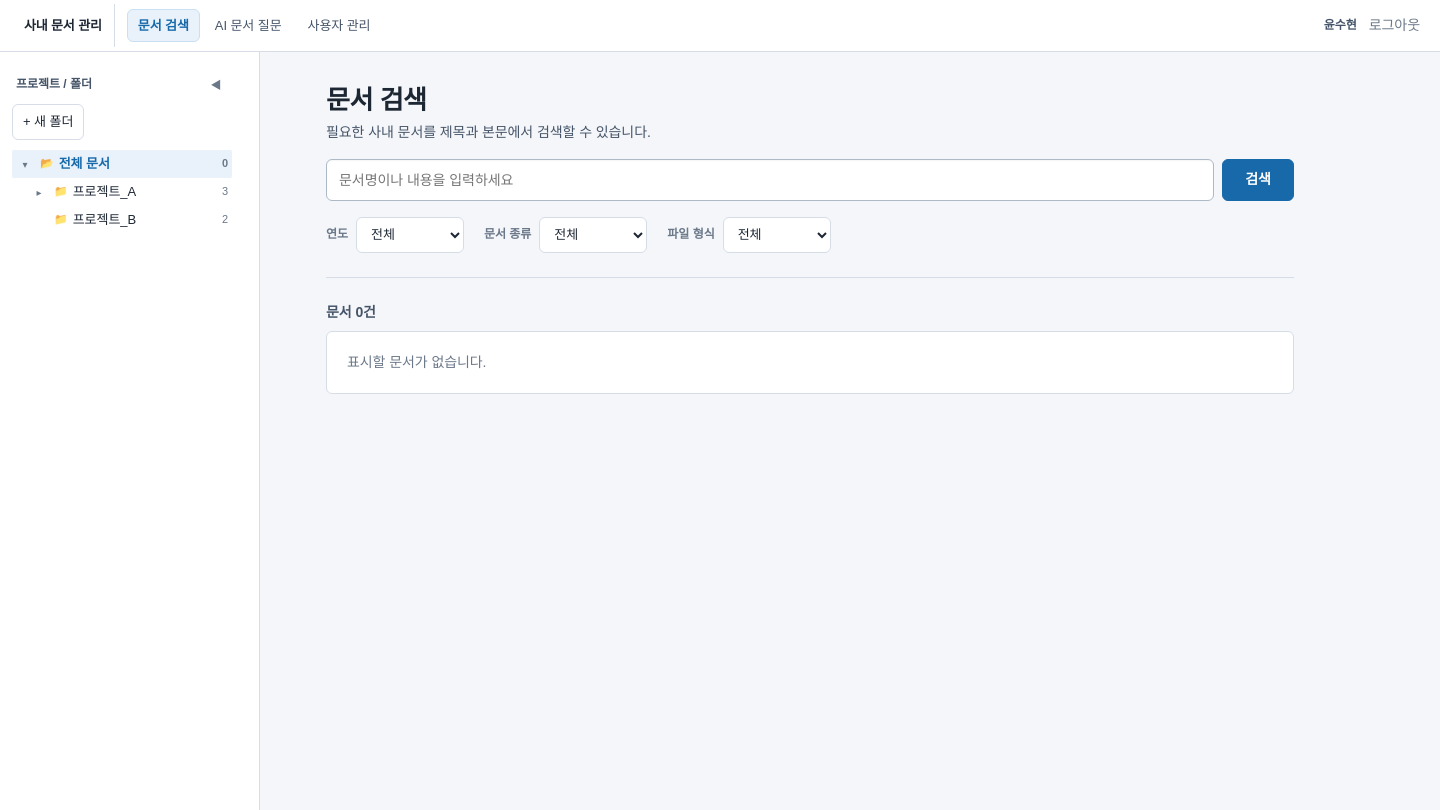
Test: SearchPage · new folder (administrators) › creates a folder, refreshes the directory list, and leaves the sidebar alone
Step 1. Click the button "+ 새 폴더" → (48, 122), box [12,104,84,140]
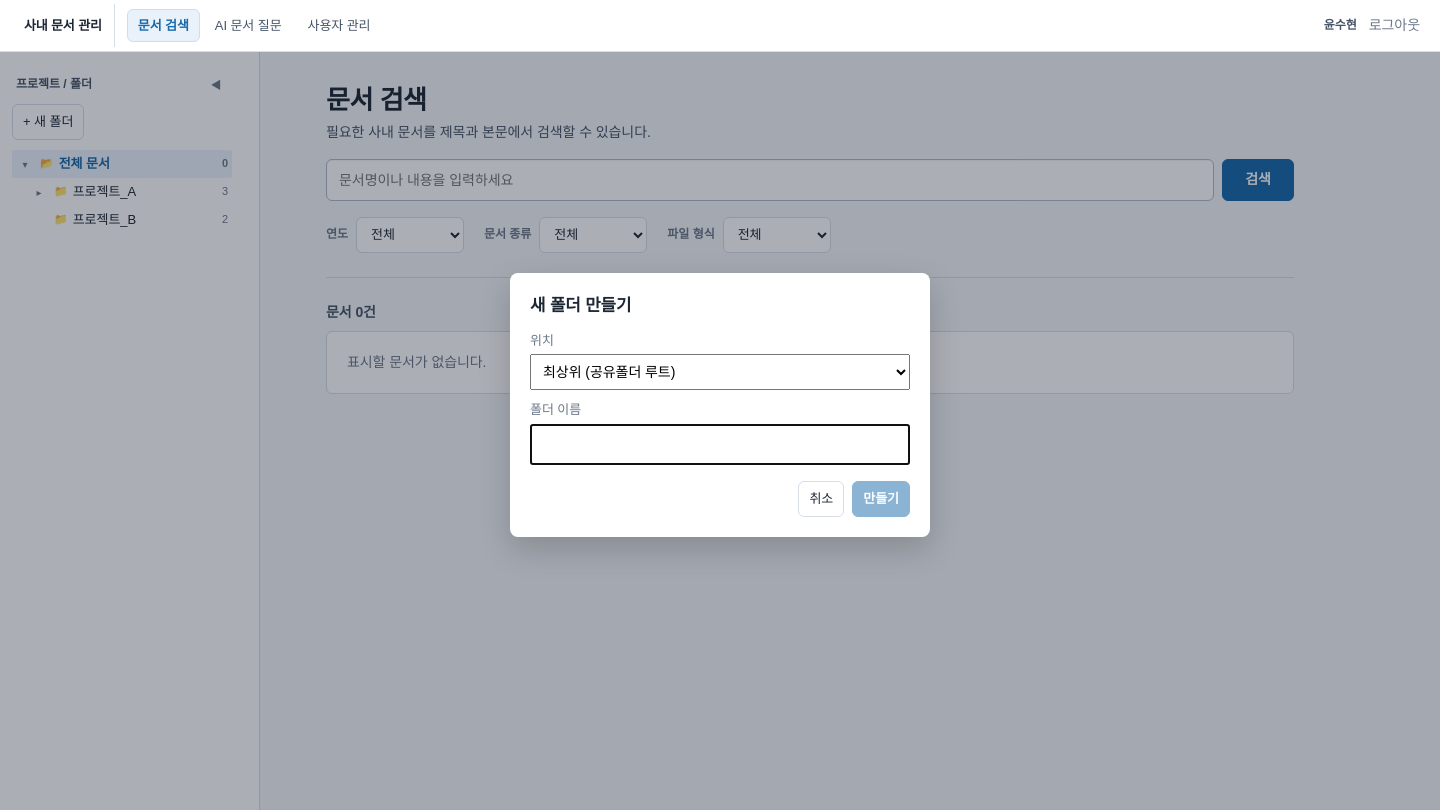
Check: the dialog "새 폴더 만들기" is shown, box [510,273,930,537]
Step 2. Select "HELLO" in the dropdown labelled "위치" → (720, 372), box [530,354,910,390]
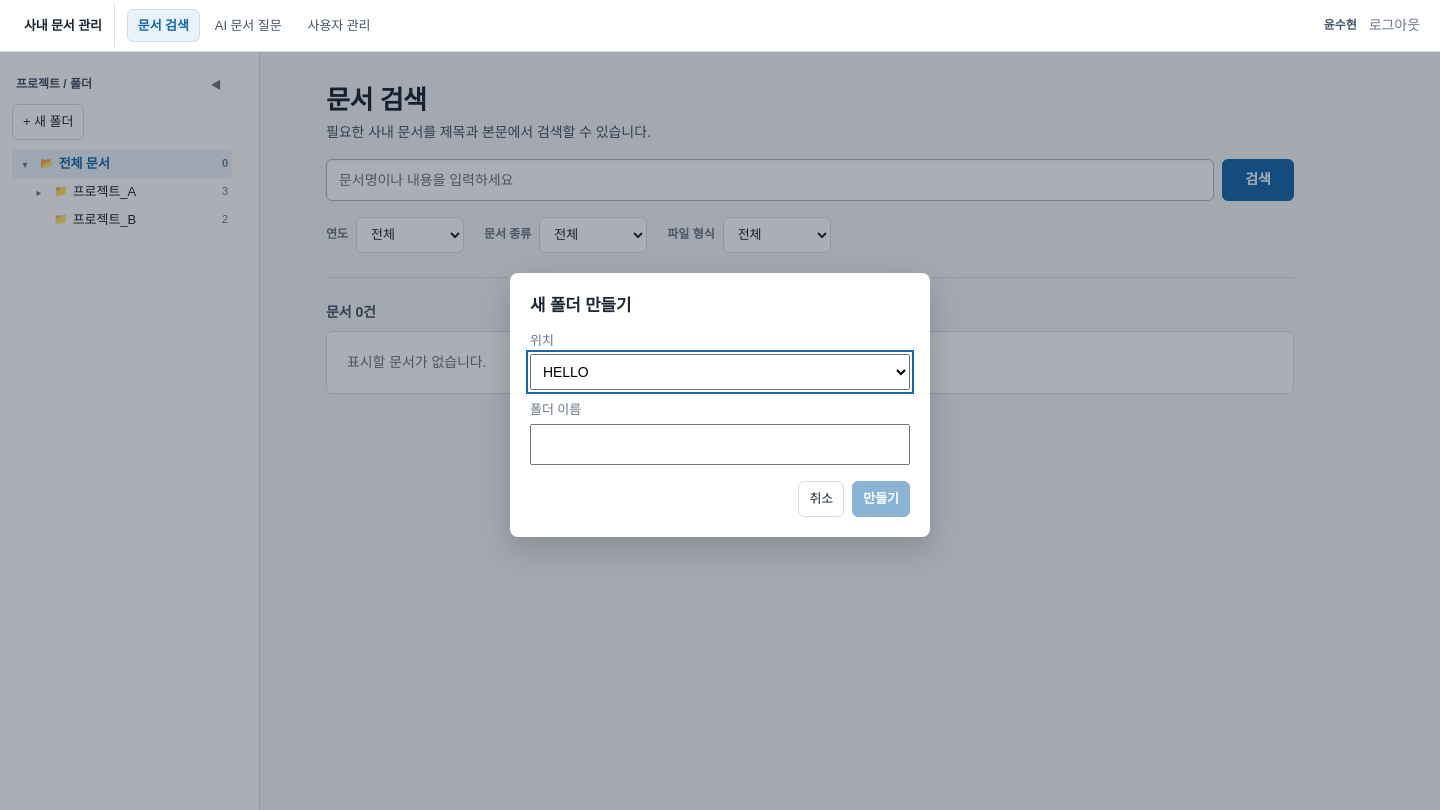
Step 3. Type "2026_보고서" into the field labelled "폴더 이름" → (720, 444), box [530,424,910,465]
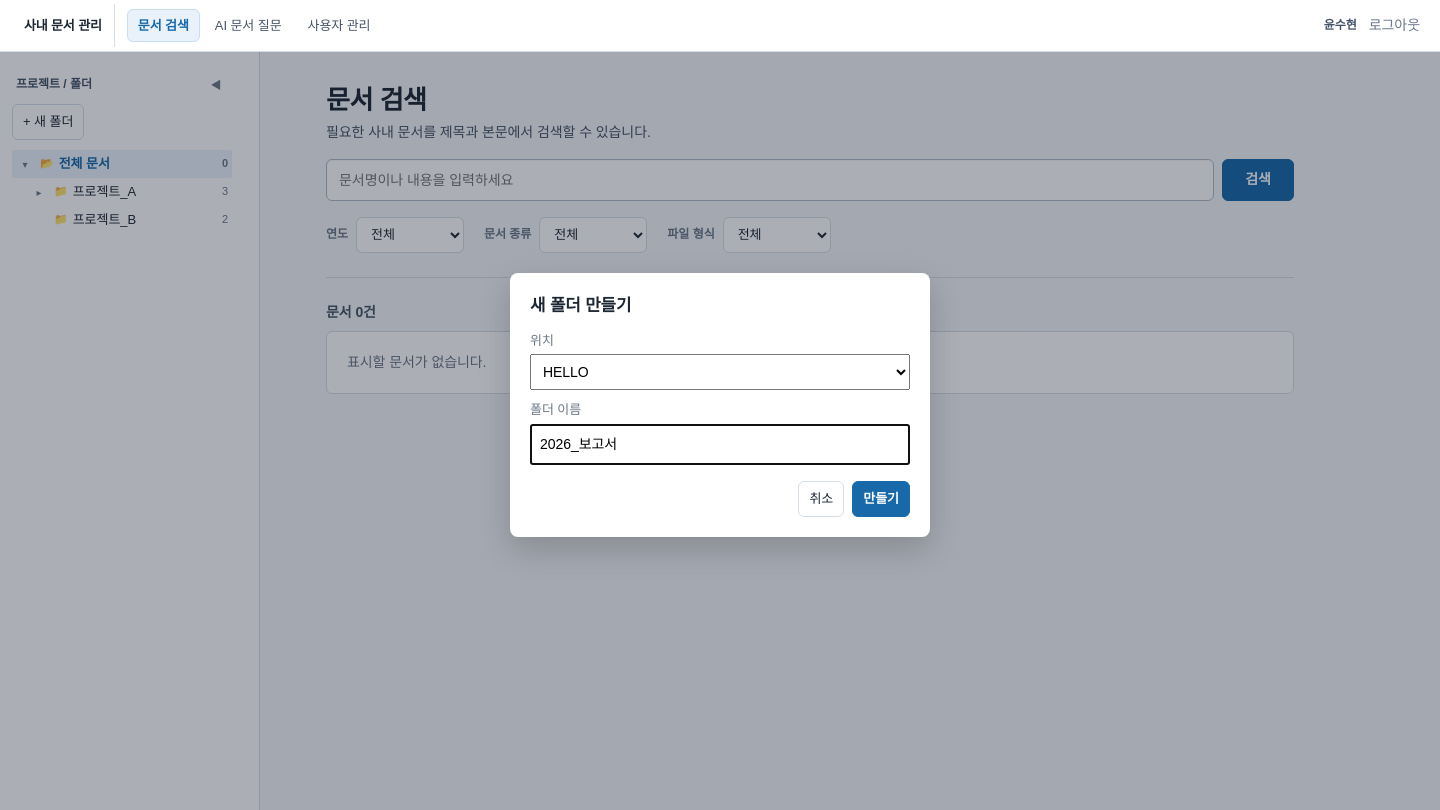
Step 4. Click the button "만들기" → (881, 499), box [852,481,910,517]
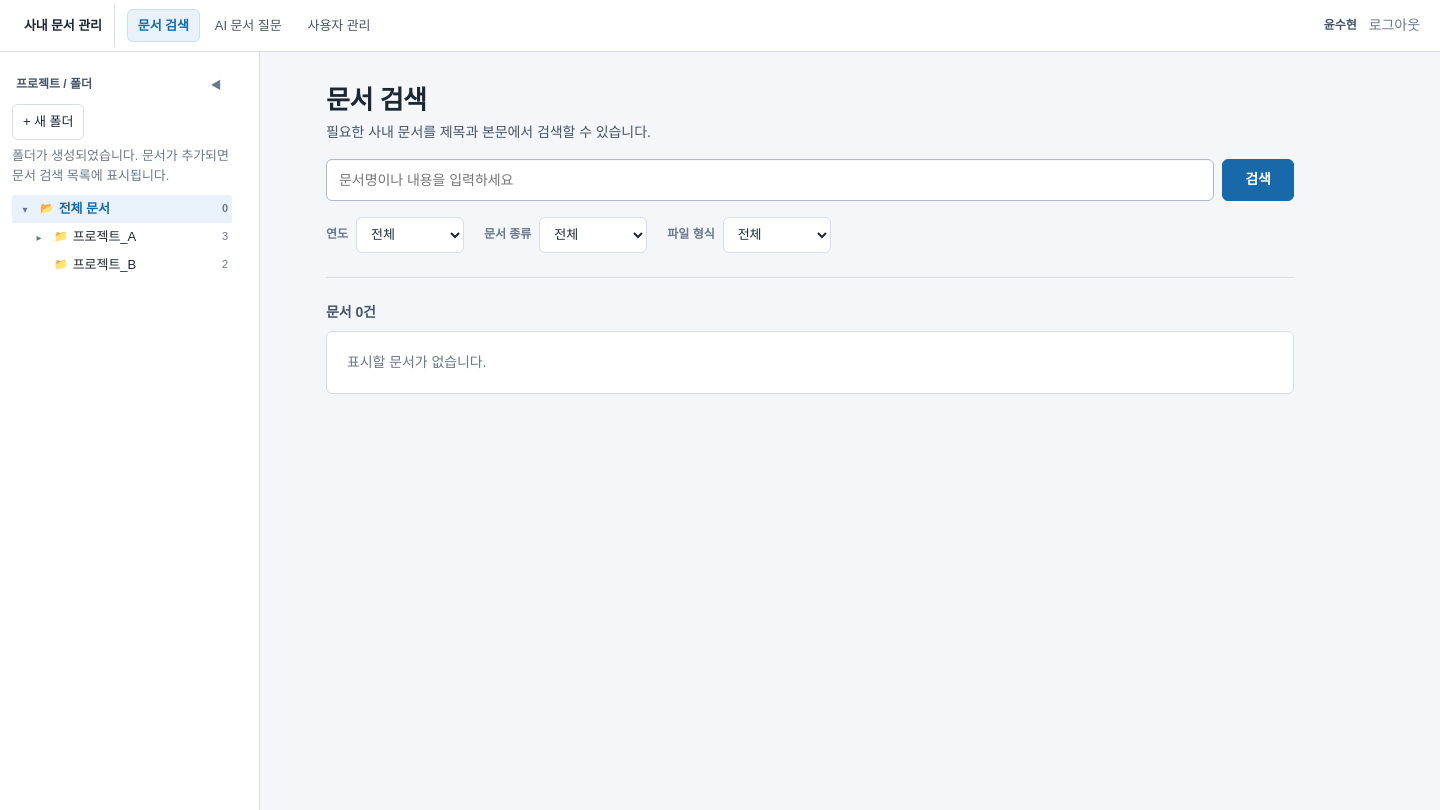
Check: the text "폴더가 생성되었습니다. 문서가 추가되면 문서 검색 목록에 표시됩니다." is shown, box [12,146,232,185]
Check: the dialog is gone
